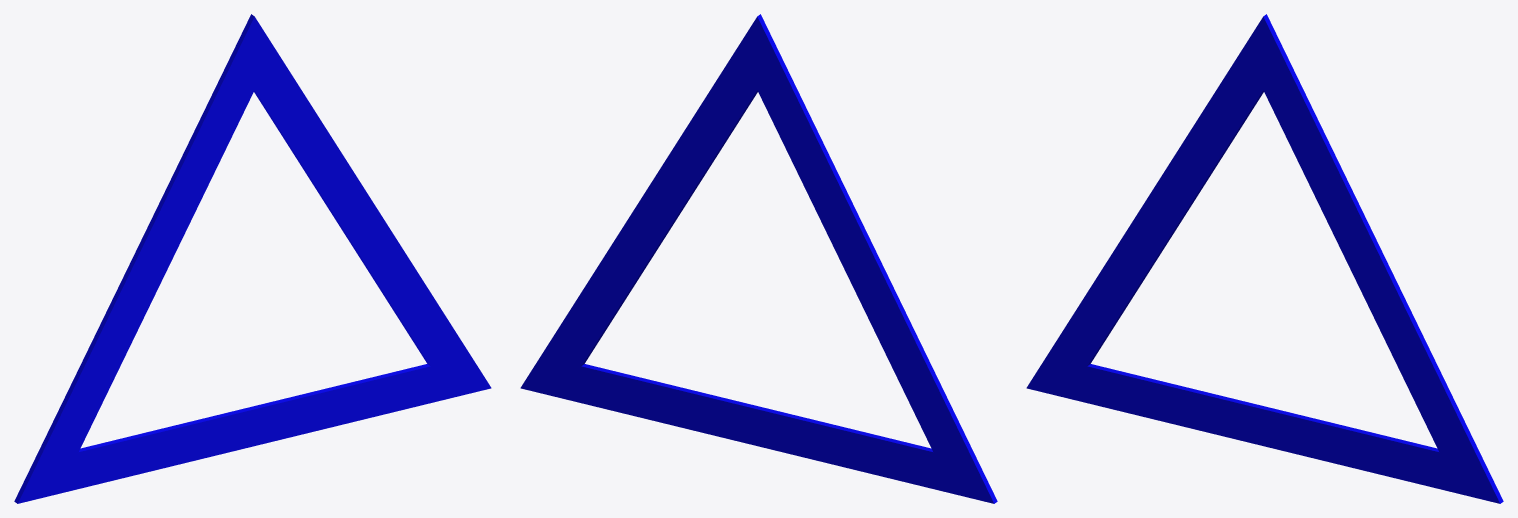
The model's file is gate_triangle_big_blue.dae.
3 renders of one model, left to right at view 1: azimuth 30°, elevation 25°; view 2: azimuth 150°, elevation 25°; view 3: azimuth 330°, elevation 25°, orthographic.
Visible parts, largest first — view 1: Triangle_Big; view 2: Triangle_Big; view 3: Triangle_Big.
Part boxes in pixels (<box>): Triangle_Big: <box>14,14,491,503</box>; Triangle_Big: <box>520,14,997,503</box>; Triangle_Big: <box>1026,14,1503,503</box>.
Size of the model in its own units: 2.02 by 0.025 by 1.75.
